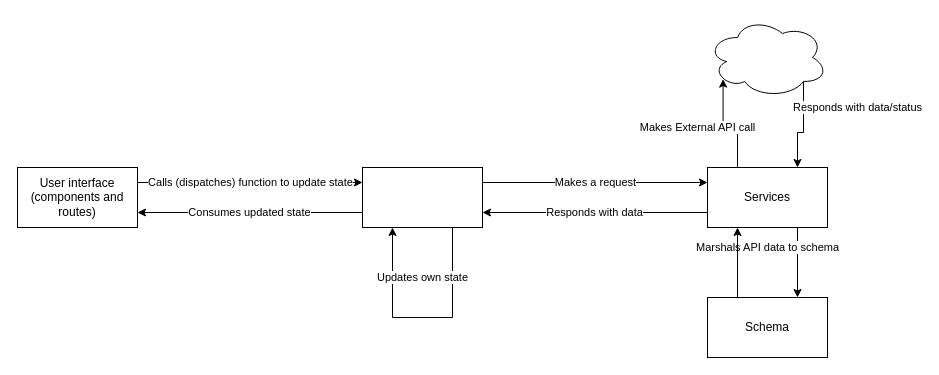
Image size: 939x375. Some labels were removed from this diagram. The shapes that lost their labels are listed below. From the top down, each one's centre as x and y in pixels, then its label:
At pixel 767 57: "External API".
At pixel 422 197: "Contexts".
